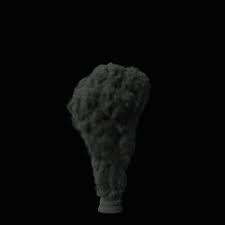smoke: (67, 60, 150, 217)
